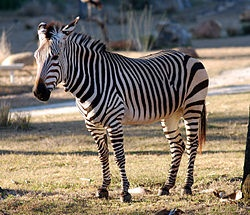zebra: (32, 15, 209, 201)
